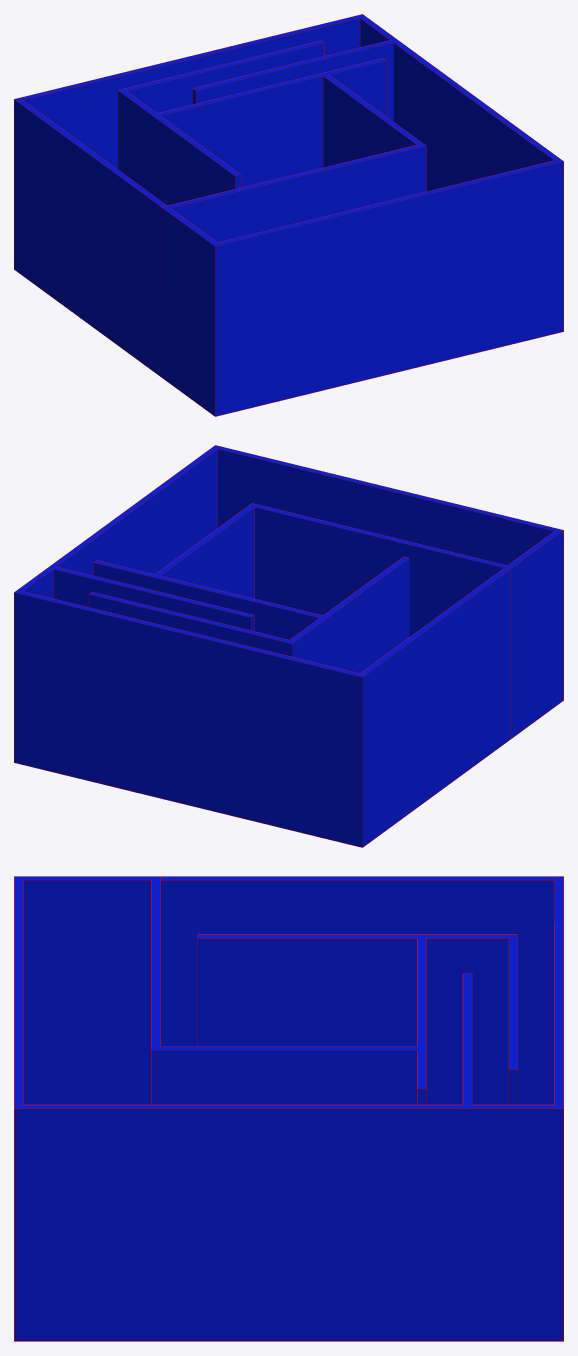
The model's file is L5_Walls.fbx.
3 renders of one model, top to bottom at view 1: azimuth 30°, elevation 25°; view 2: azimuth 150°, elevation 25°; view 3: azimuth 270°, elevation 25°, orthographic. The views are drawn at different scales.
Visible parts, largest first — view 1: L5_Walls; view 2: L5_Walls; view 3: L5_Walls.
Boxes of the visible parts, x1,y1,x2,y2 form: L5_Walls: [14, 14, 563, 416]; L5_Walls: [14, 445, 563, 847]; L5_Walls: [14, 876, 563, 1341].
Size of the model in its own units: 6004 by 2806 by 6004.
